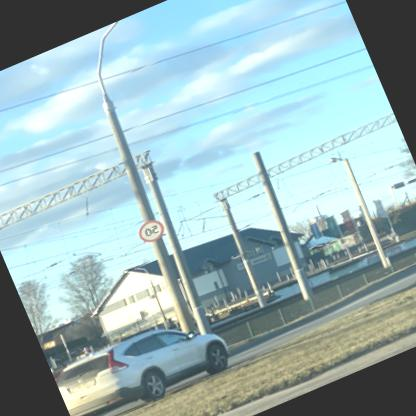speedlimit: (135, 214, 169, 244)
